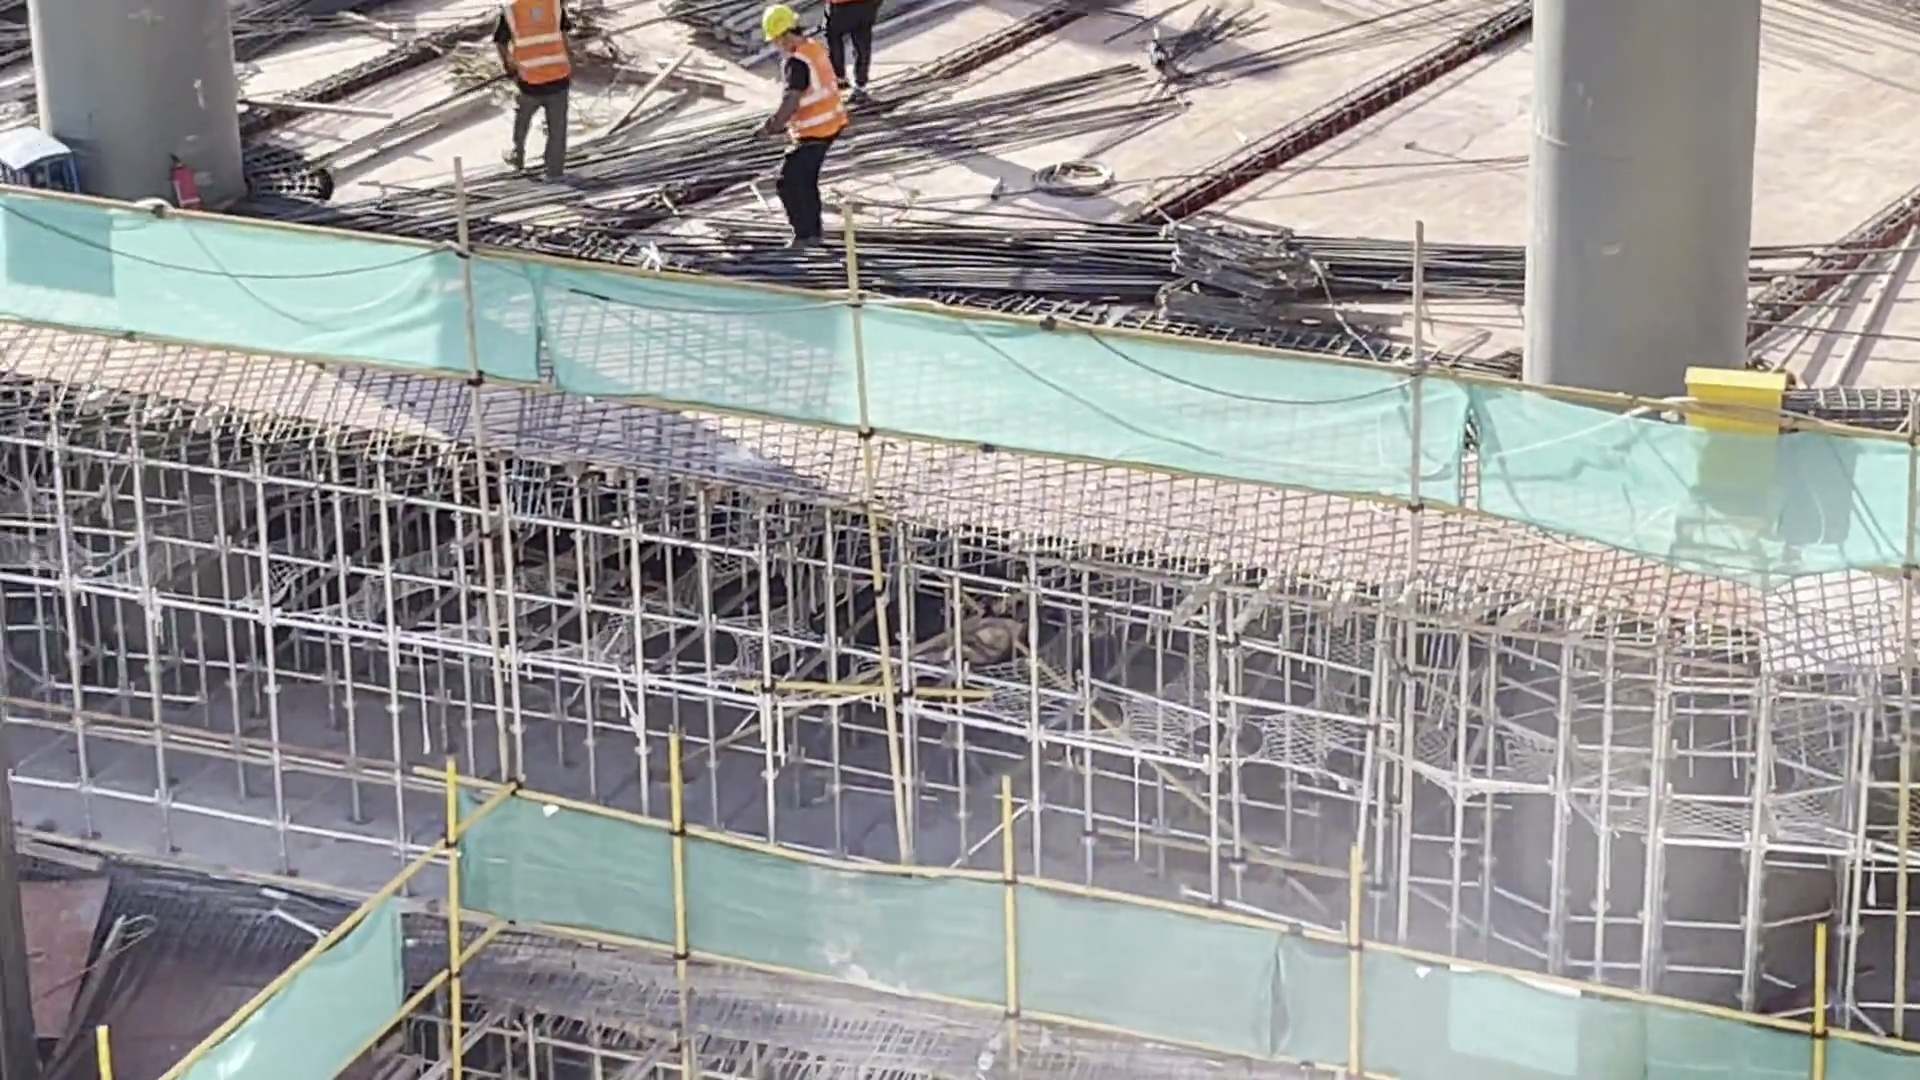ebox: (1675, 349, 1797, 519)
helmet: (757, 1, 809, 56)
person: (756, 1, 844, 254), (504, 1, 597, 193)
vest: (760, 39, 860, 141), (499, 1, 597, 98)
